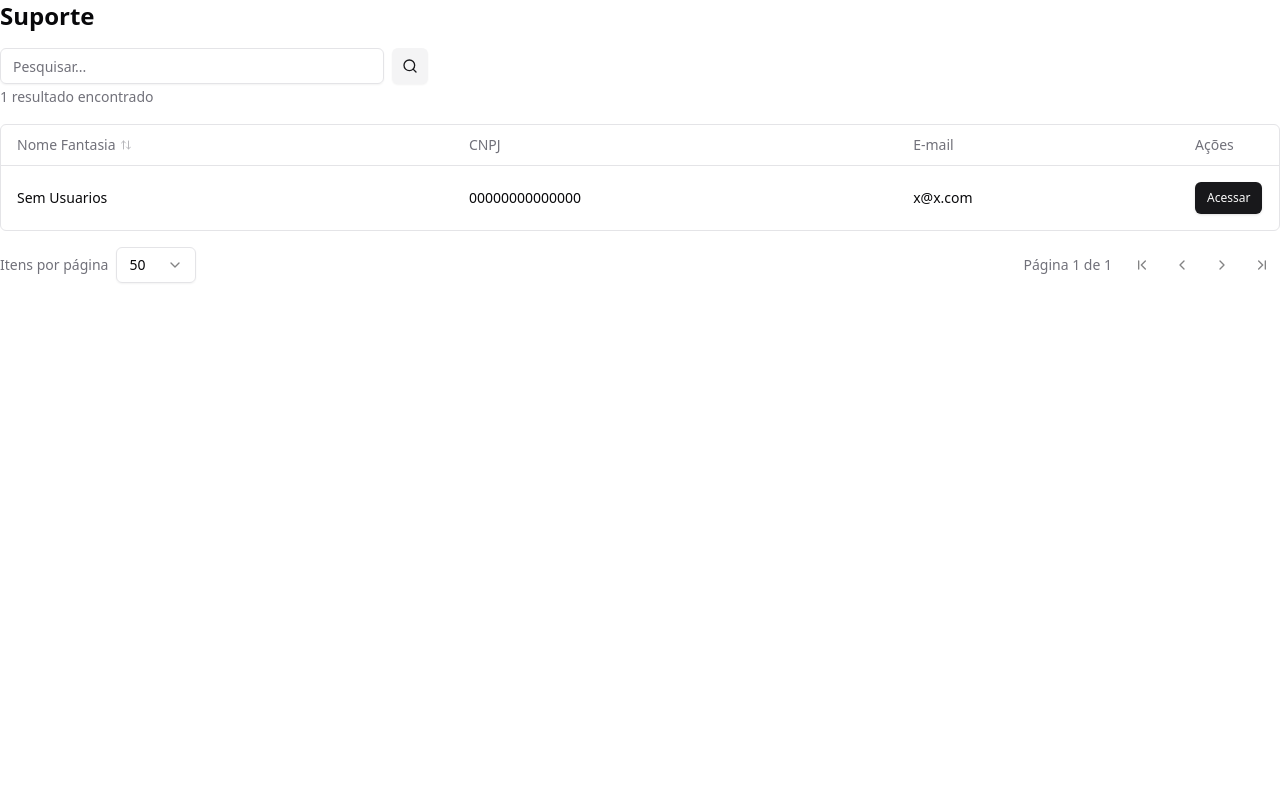
Test: SuportePage › user picker dialog › disables confirm and shows a message for a hotel with zero users
Expected: the text "Sem Usuarios" is shown, [1,165,453,230]
Click the button "Acessar": (1229, 198) [1195,182,1262,214]
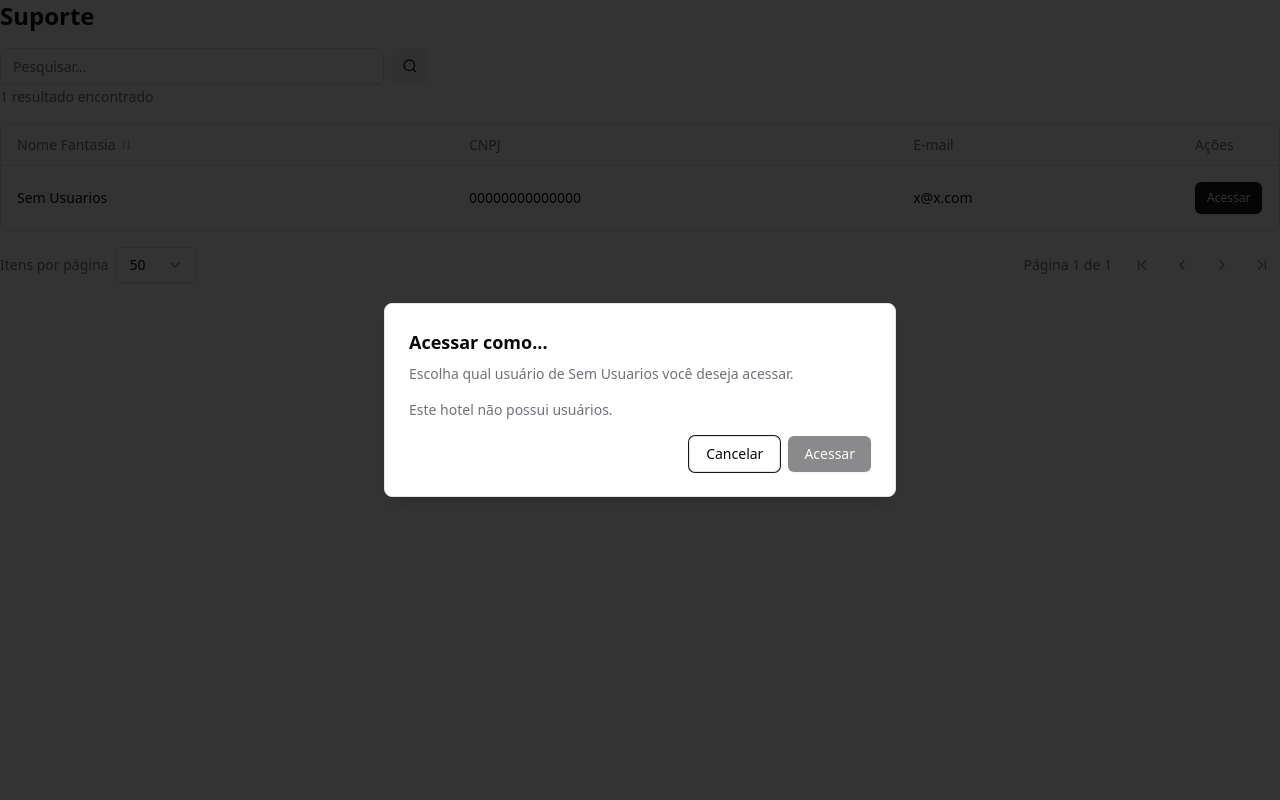
Expected: the text "Este hotel não possui usuários." is shown, [409,400,613,419]
Expected: the button "Acessar" is disabled, [788,436,871,472]
